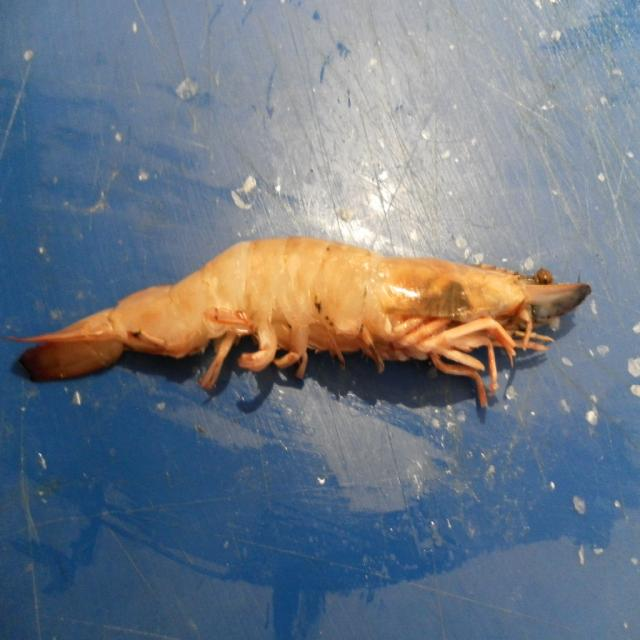Shrimp-karides-: (16, 238, 593, 409)
